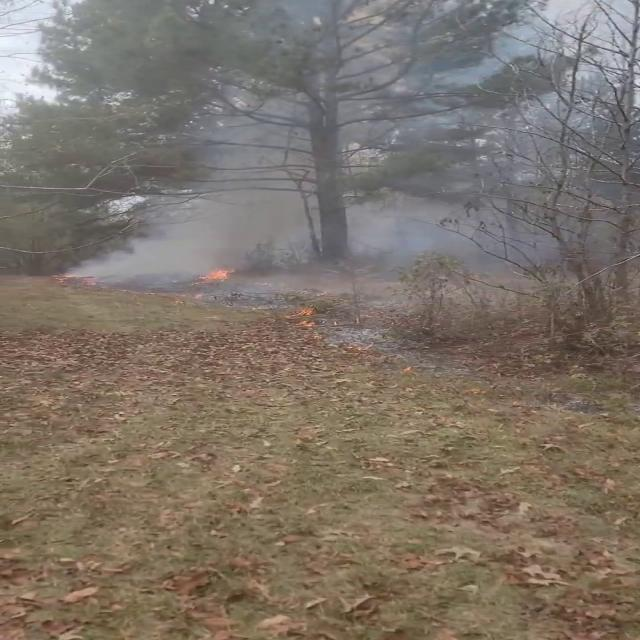Fire: (199, 262, 237, 286)
Smoke: (58, 0, 490, 298)
